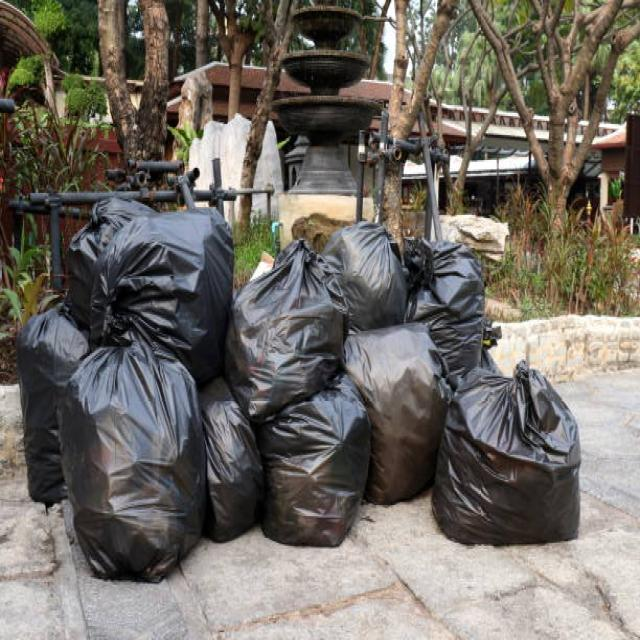Vinyl: (54, 329, 212, 587), (56, 188, 237, 368), (432, 356, 586, 554), (220, 236, 348, 424), (345, 320, 452, 514), (262, 376, 374, 550), (7, 312, 88, 514), (402, 227, 493, 381), (194, 370, 268, 554)
